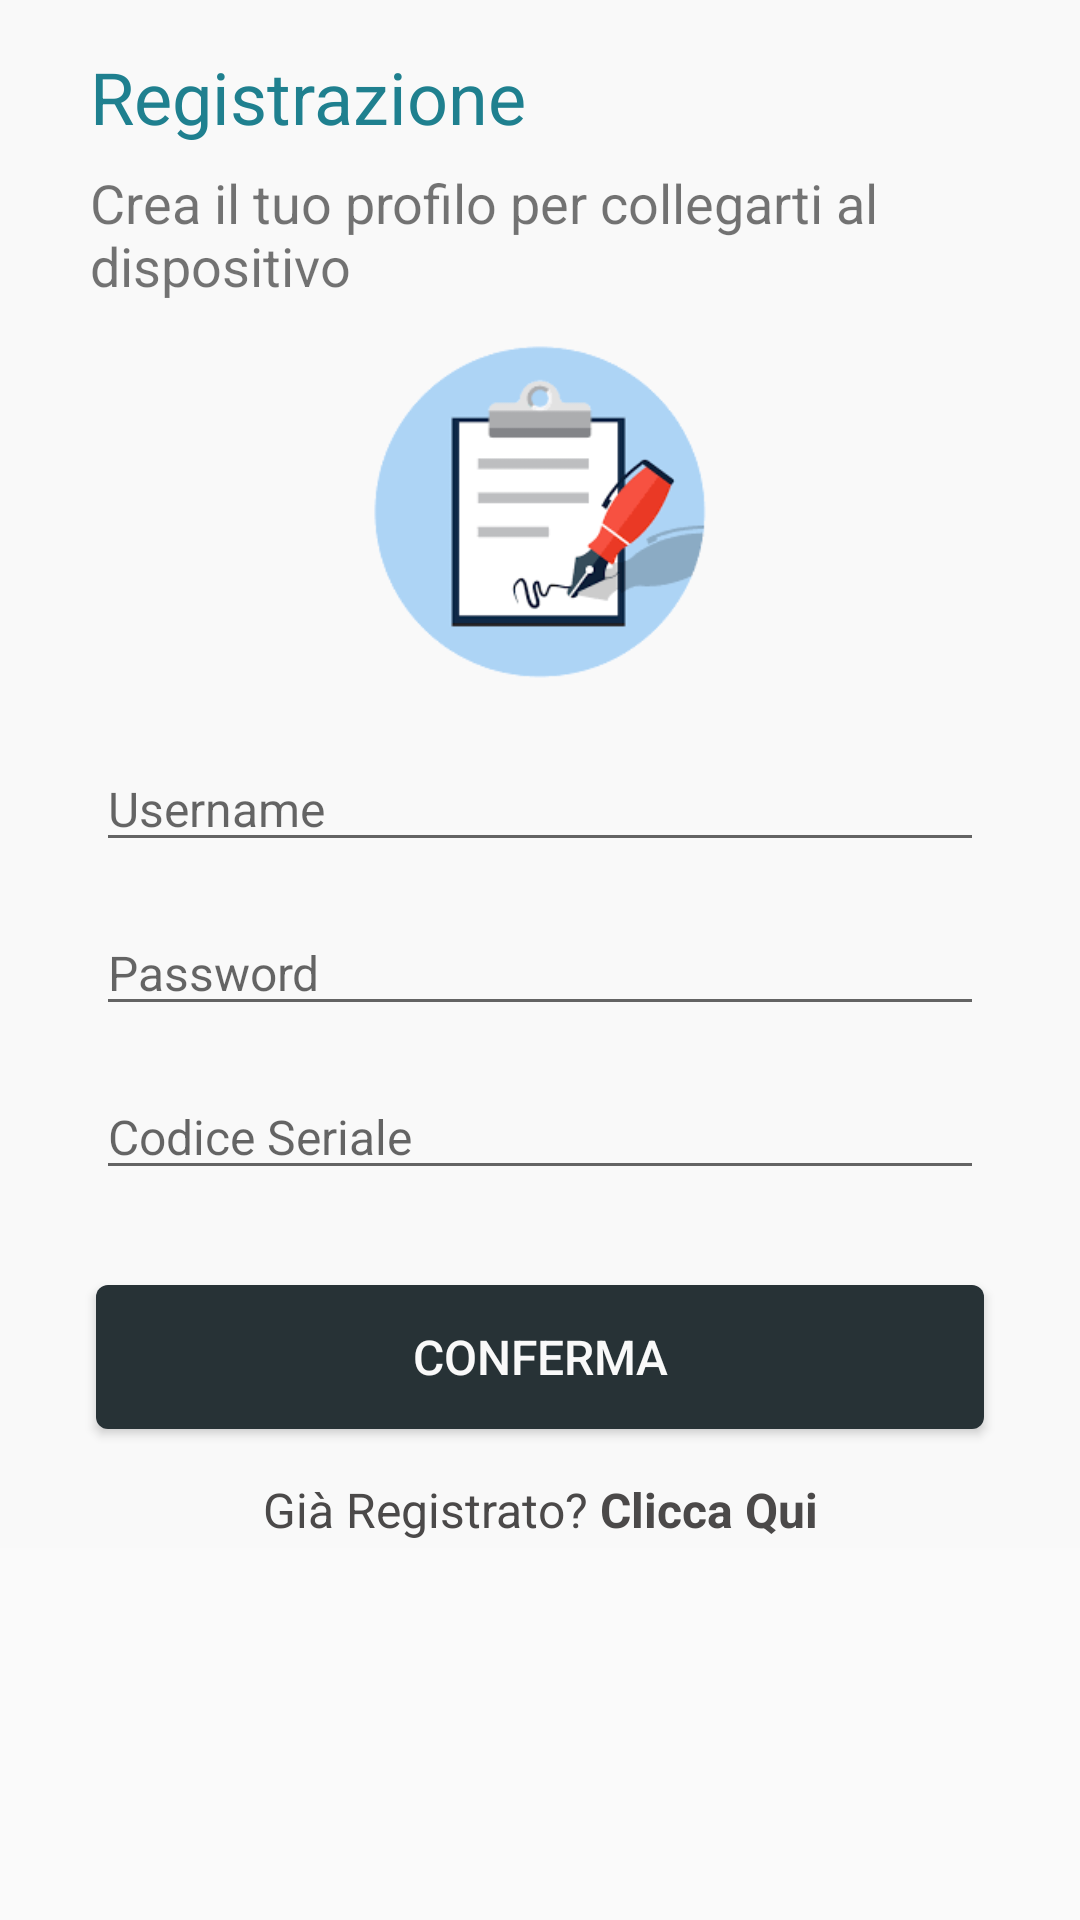

Screen size 1080 x 1920. Icon name, then its center in pixels as [x,y]:
registr: [539,511]
